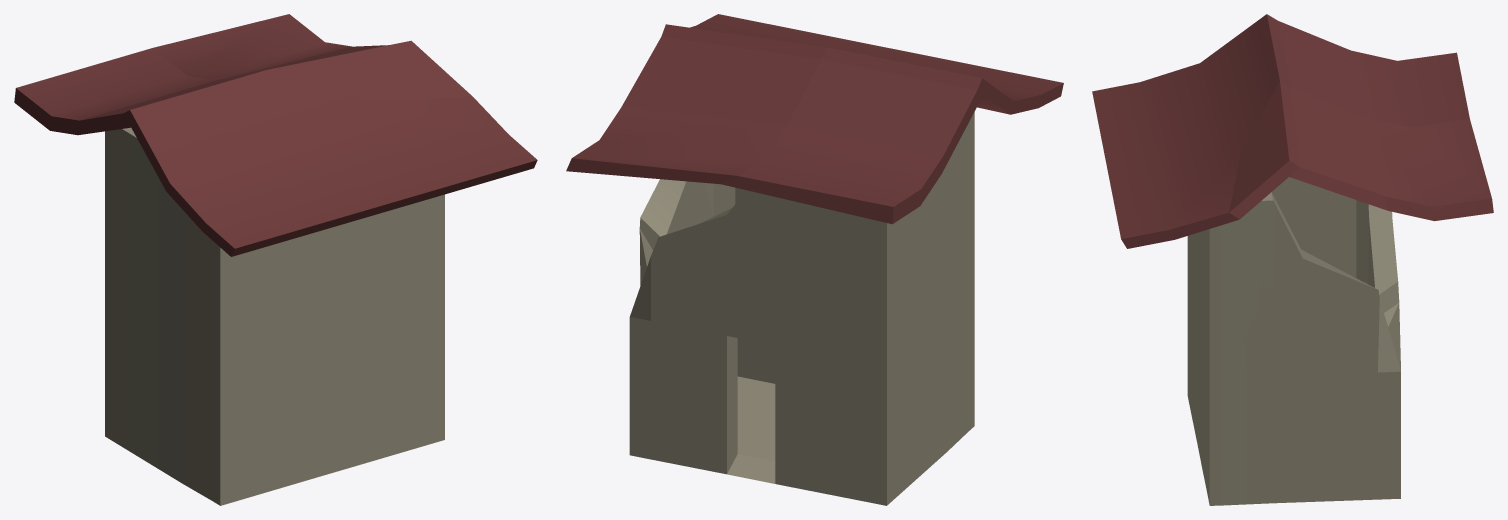
Rendered from tallcrapbuilding.fbx.
3 views of the same model, side by side, from view 1: azimuth 30°, elevation 25°; view 2: azimuth 150°, elevation 25°; view 3: azimuth 270°, elevation 25° (orthographic). The views are drawn at different scales.
Visible parts, largest first — view 1: pCube1, pCube4; view 2: pCube1, pCube4; view 3: pCube1, pCube4.
Boxes of the visible parts, box(x1,y1,x2,y2) form: pCube1: box(105, 127, 444, 505); pCube4: box(14, 14, 537, 256); pCube1: box(629, 112, 974, 505); pCube4: box(566, 14, 1063, 224); pCube1: box(1187, 177, 1400, 505); pCube4: box(1092, 14, 1493, 248).
Bounding box in the file's own units: 17.82 × 18.59 × 18.82.
